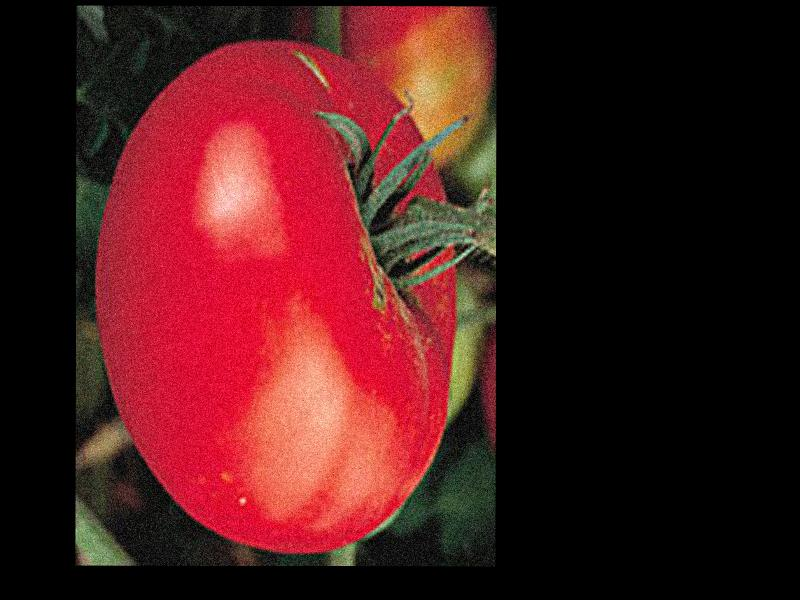Tomato: (94, 44, 455, 550)
